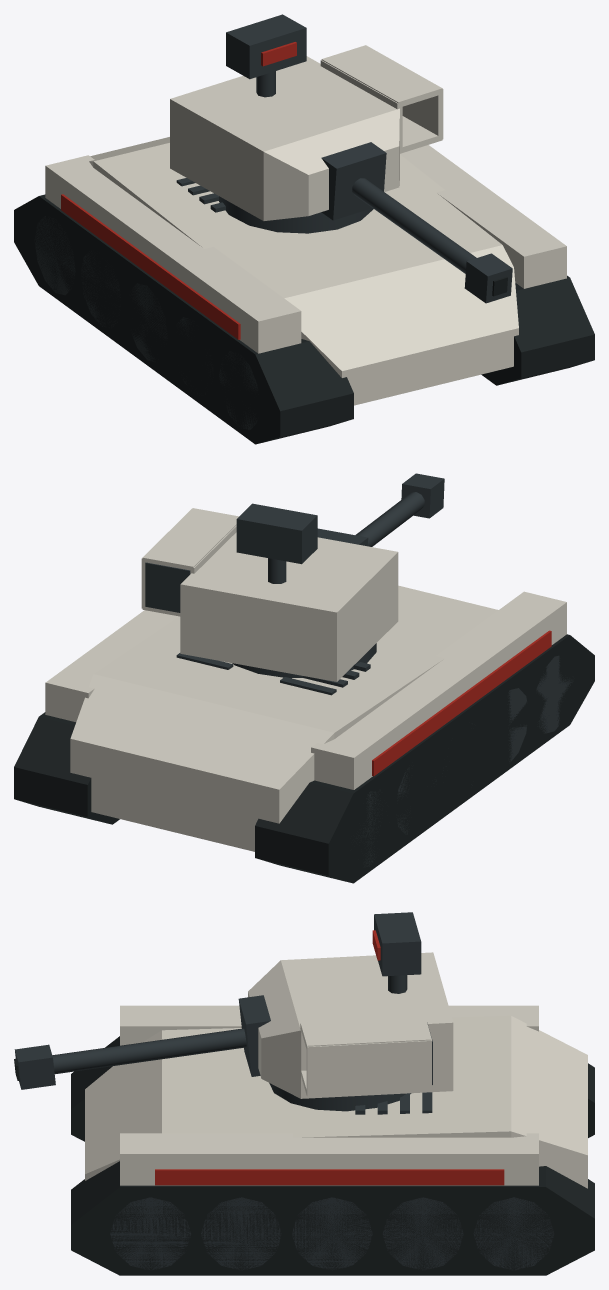
3 views of the same model, one above another, from view 1: azimuth 30°, elevation 25°; view 2: azimuth 150°, elevation 25°; view 3: azimuth 270°, elevation 25° (orthographic).
Visible parts, largest first — view 1: drone-tank-fleet-armor, drone-tank-fleet-rubber, turret-fleet-armor, barrel-fleet-machine, launcher-1-fleet-armor, radar-fleet-machine, drone-tank-fleet-red, drone-tank-fleet-machine, wheel--1-0-fleet-machine, wheel--1-2-fleet-machine, wheel--1-1-fleet-machine, wheel--1-4-fleet-machine; view 2: drone-tank-fleet-armor, drone-tank-fleet-rubber, turret-fleet-armor, launcher-1-fleet-armor, radar-fleet-machine, drone-tank-fleet-red, barrel-fleet-machine, drone-tank-fleet-machine, launcher-1-fleet-machine, wheel--1-4-fleet-machine, wheel--1-3-fleet-machine; view 3: drone-tank-fleet-armor, drone-tank-fleet-rubber, turret-fleet-armor, launcher-1-fleet-armor, barrel-fleet-machine, drone-tank-fleet-red, wheel-1-2-fleet-machine, wheel-1-1-fleet-machine, wheel-1-3-fleet-machine, wheel-1-0-fleet-machine, wheel-1-4-fleet-machine, radar-fleet-machine (+1 smaller).
Part boxes in pixels (x1=…): drone-tank-fleet-armor: x1=45, y1=137, x2=566, y2=405; drone-tank-fleet-rubber: x1=14, y1=194, x2=594, y2=444; turret-fleet-armor: x1=170, y1=56, x2=399, y2=220; barrel-fleet-machine: x1=321, y1=142, x2=512, y2=303; launcher-1-fleet-armor: x1=320, y1=45, x2=443, y2=153; radar-fleet-machine: x1=226, y1=14, x2=306, y2=79; drone-tank-fleet-red: x1=61, y1=194, x2=240, y2=339; drone-tank-fleet-machine: x1=176, y1=178, x2=373, y2=233; wheel--1-0-fleet-machine: x1=34, y1=216, x2=75, y2=295; wheel--1-2-fleet-machine: x1=130, y1=283, x2=167, y2=361; wheel--1-1-fleet-machine: x1=81, y1=251, x2=120, y2=327; wheel--1-4-fleet-machine: x1=219, y1=351, x2=258, y2=430; drone-tank-fleet-armor: x1=45, y1=585, x2=566, y2=851; drone-tank-fleet-rubber: x1=14, y1=634, x2=594, y2=883; turret-fleet-armor: x1=180, y1=532, x2=398, y2=681; launcher-1-fleet-armor: x1=141, y1=508, x2=238, y2=616; radar-fleet-machine: x1=236, y1=503, x2=317, y2=564; drone-tank-fleet-red: x1=372, y1=630, x2=551, y2=776; barrel-fleet-machine: x1=317, y1=473, x2=444, y2=546; drone-tank-fleet-machine: x1=176, y1=643, x2=376, y2=695; launcher-1-fleet-machine: x1=145, y1=562, x2=190, y2=612; wheel--1-4-fleet-machine: x1=536, y1=655, x2=573, y2=733; wheel--1-3-fleet-machine: x1=507, y1=688, x2=526, y2=761; drone-tank-fleet-armor: x1=85, y1=1005, x2=587, y2=1188; drone-tank-fleet-rubber: x1=71, y1=1036, x2=594, y2=1275; turret-fleet-armor: x1=248, y1=952, x2=453, y2=1098; launcher-1-fleet-armor: x1=300, y1=1016, x2=431, y2=1096; barrel-fleet-machine: x1=14, y1=995, x2=270, y2=1089; drone-tank-fleet-red: x1=155, y1=1169, x2=504, y2=1185; wheel-1-2-fleet-machine: x1=292, y1=1197, x2=372, y2=1270; wheel-1-1-fleet-machine: x1=383, y1=1197, x2=463, y2=1270; wheel-1-3-fleet-machine: x1=201, y1=1197, x2=281, y2=1270; wheel-1-0-fleet-machine: x1=473, y1=1197, x2=553, y2=1270; wheel-1-4-fleet-machine: x1=110, y1=1197, x2=190, y2=1269; radar-fleet-machine: x1=374, y1=912, x2=421, y2=976.
Size of the model in its own units: 13.57 by 11.29 by 22.04.
